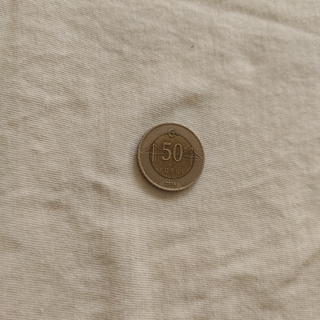50KURUS: (135, 121, 205, 193)
